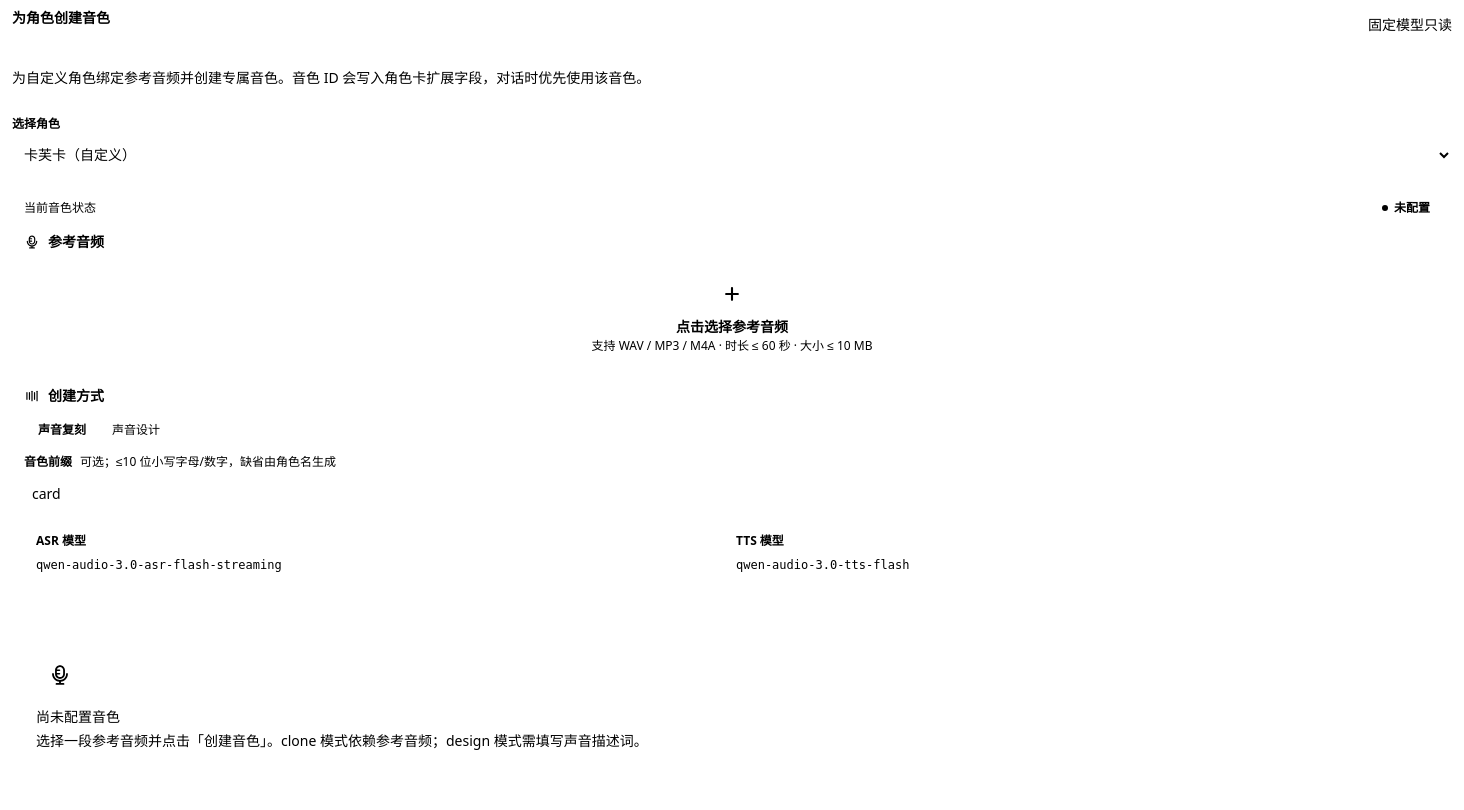
Test: CharacterVoiceSection › 参考音频被后端拒绝时显示原文
Expected: the field with test id "prefix-input" holds "card", [24,476,1440,510]
Click the button with test id "pick-reference-btn": (732,317) [24,260,1440,374]
(page scrolled)
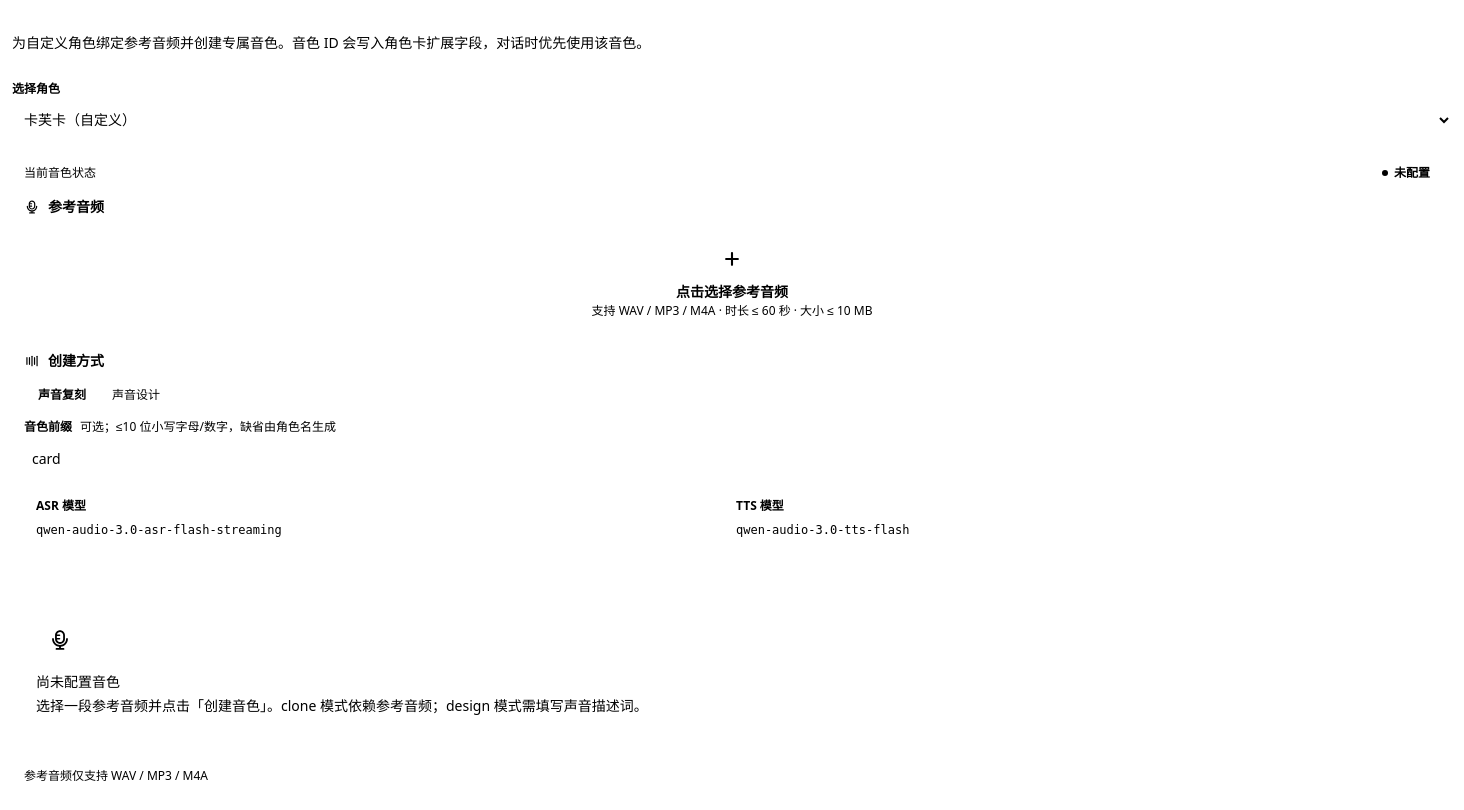
Expected: the message with test id "operation-error" reads "参考音频仅支持 WAV / MP3 / M4A", [24,767,208,784]
